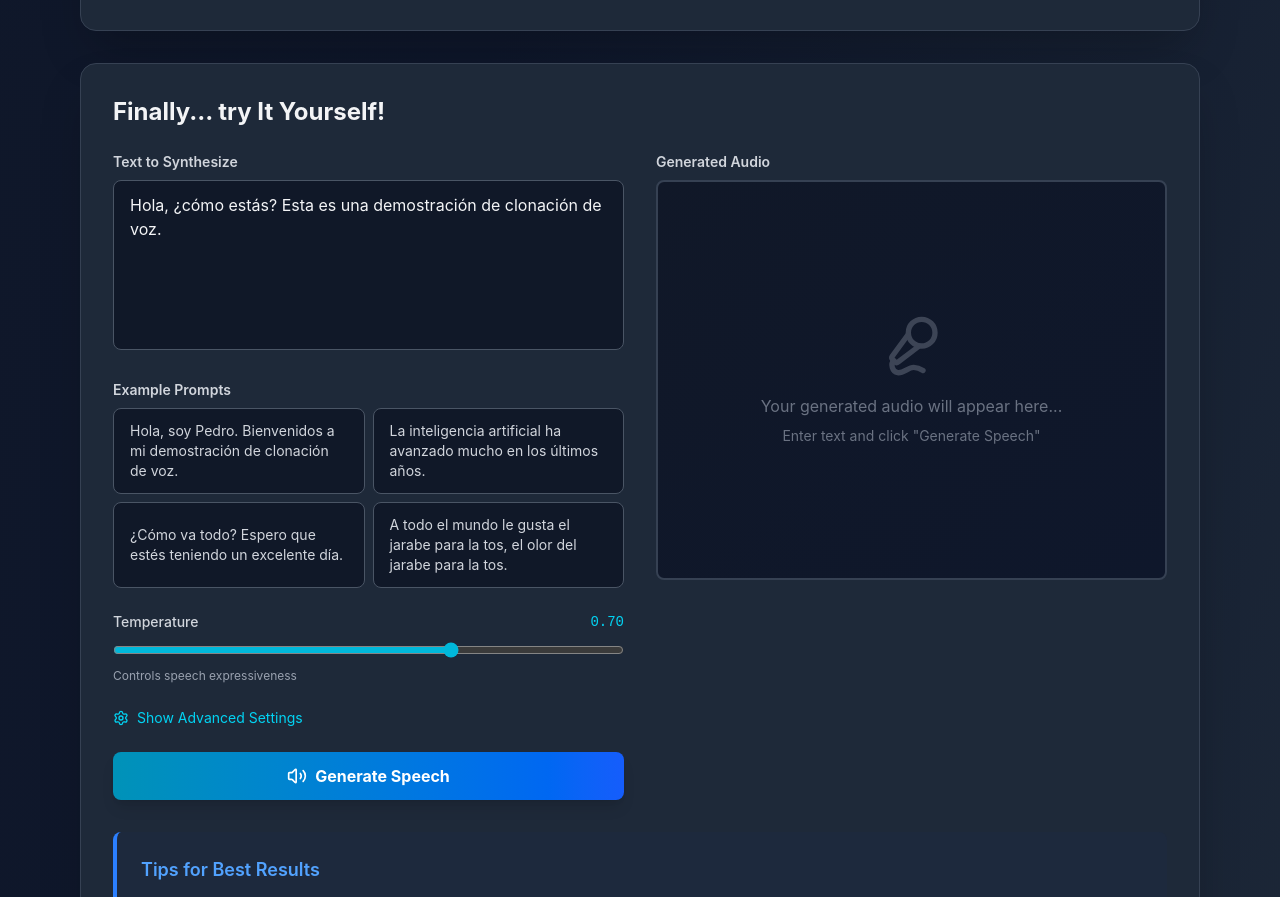
Test: App › loads an example into the text box
(page scrolled)
Click the button "La inteligencia artificial ha avanzado mucho en los últimos años.": (498, 450) [372,408,624,494]
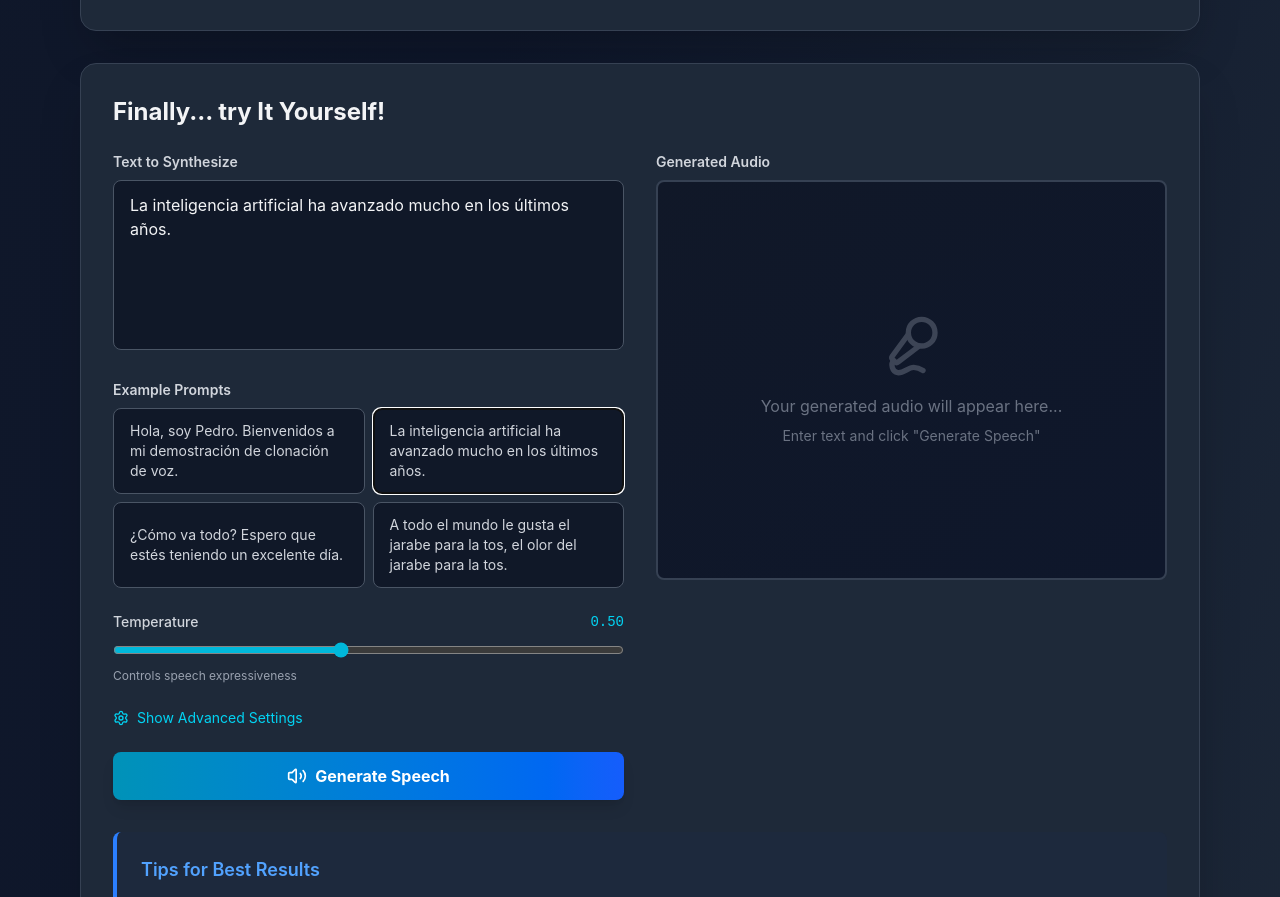
Check: the text box holds "La inteligencia artificial ha avanzado mucho en los últimos años.", box [113,180,624,350]
Check: the text "0.50" is shown, box [590,612,624,632]
